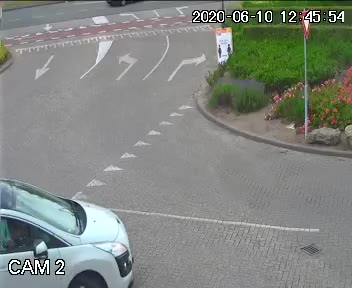car: (0, 185, 157, 288)
